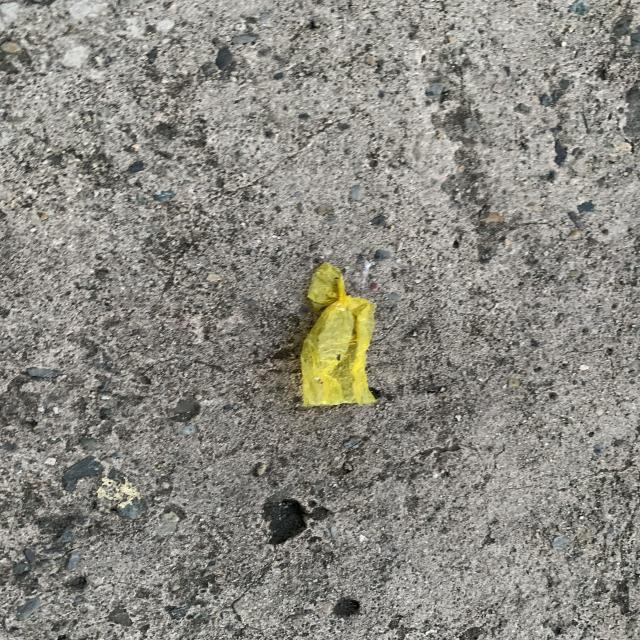litter: (302, 258, 379, 406)
